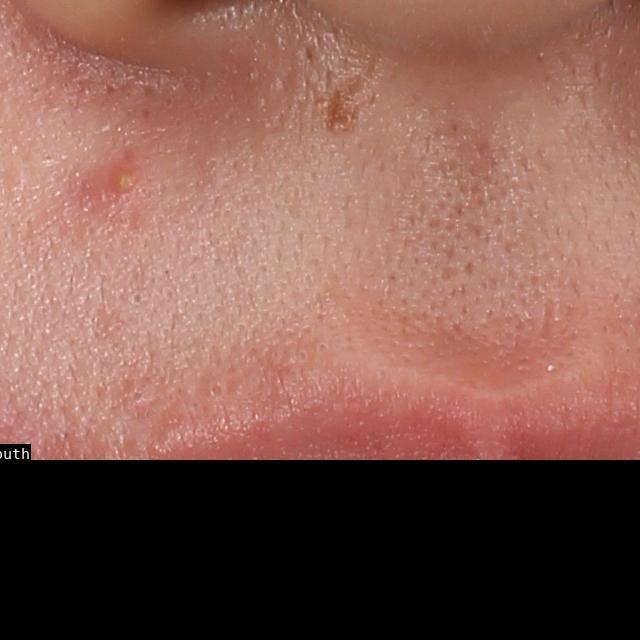comedo: (205, 378, 227, 399), (128, 285, 147, 306)
pustule: (105, 164, 144, 198)
